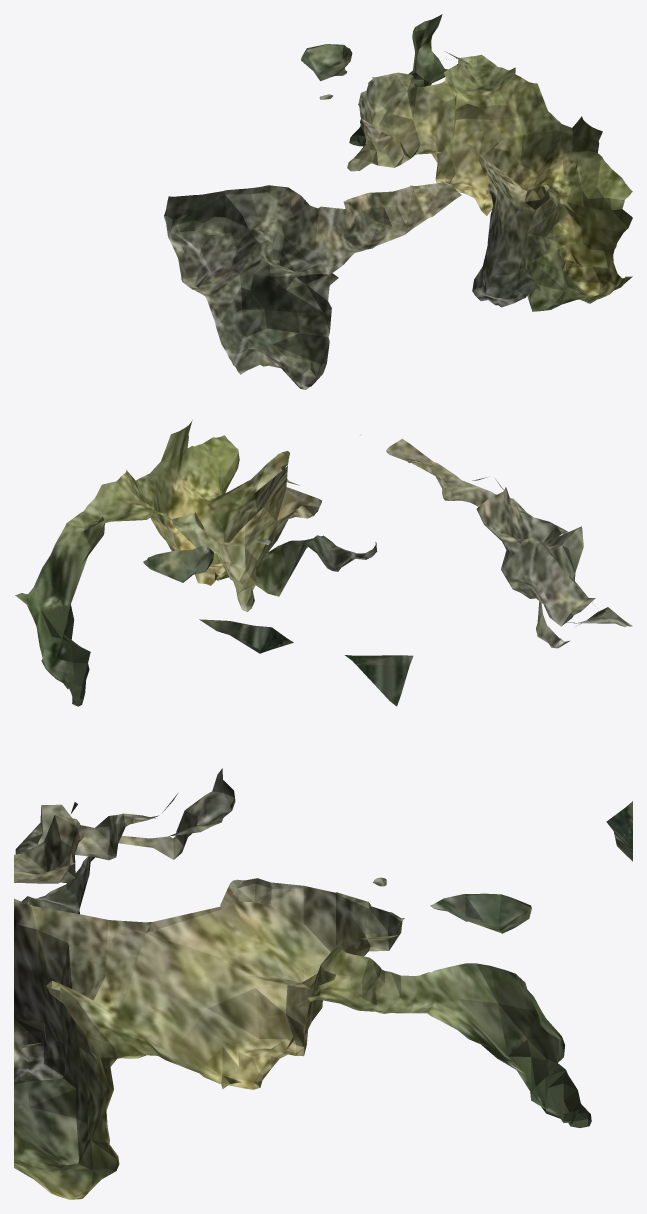
3 views of the same model, one above another, from view 1: azimuth 30°, elevation 25°; view 2: azimuth 150°, elevation 25°; view 3: azimuth 270°, elevation 25° (orthographic). The views are drawn at different scales.
Bounding box in the file's own units: 5.9 × 2.28 × 5.9.
Materials: 2 (2 with a texture image).
